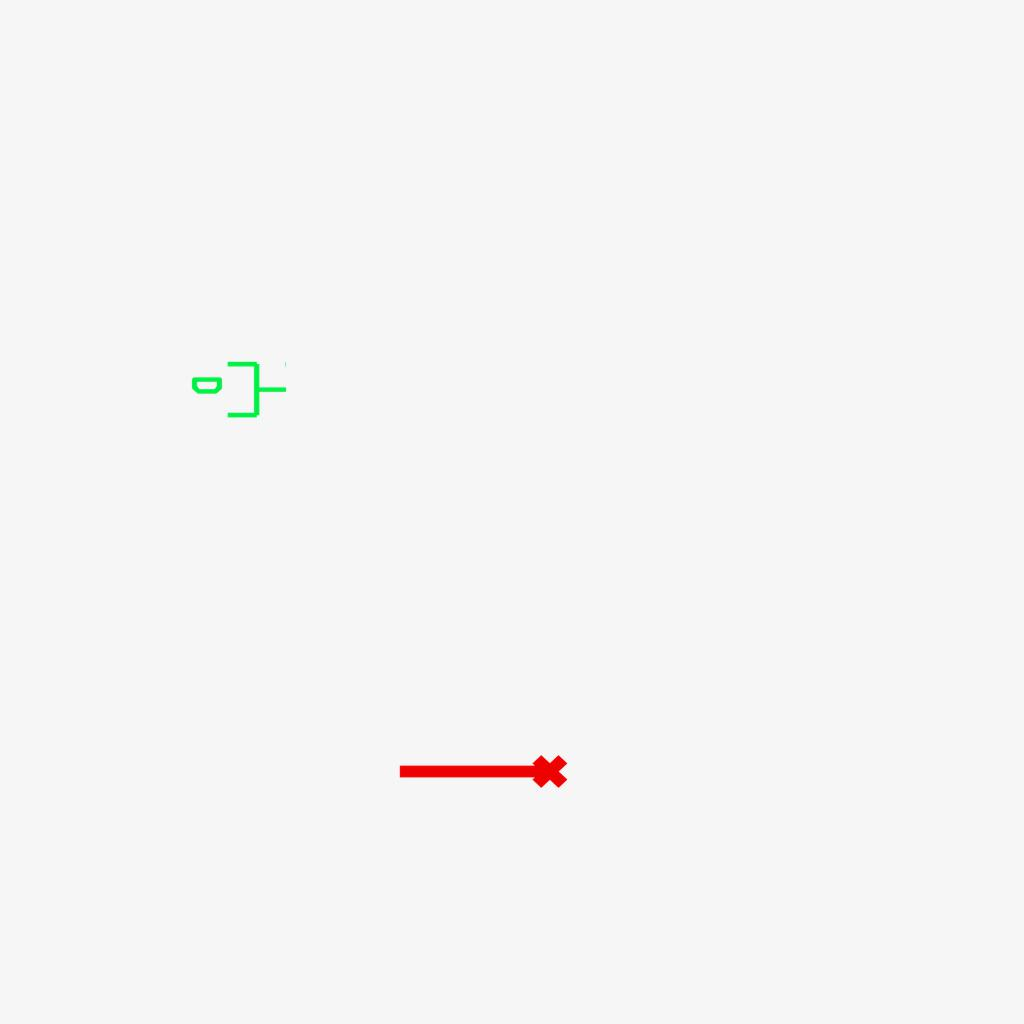ASR_Ansaugoeffnung: (394, 751, 570, 797)
Datenanschluss_einfach: (189, 357, 289, 426)
